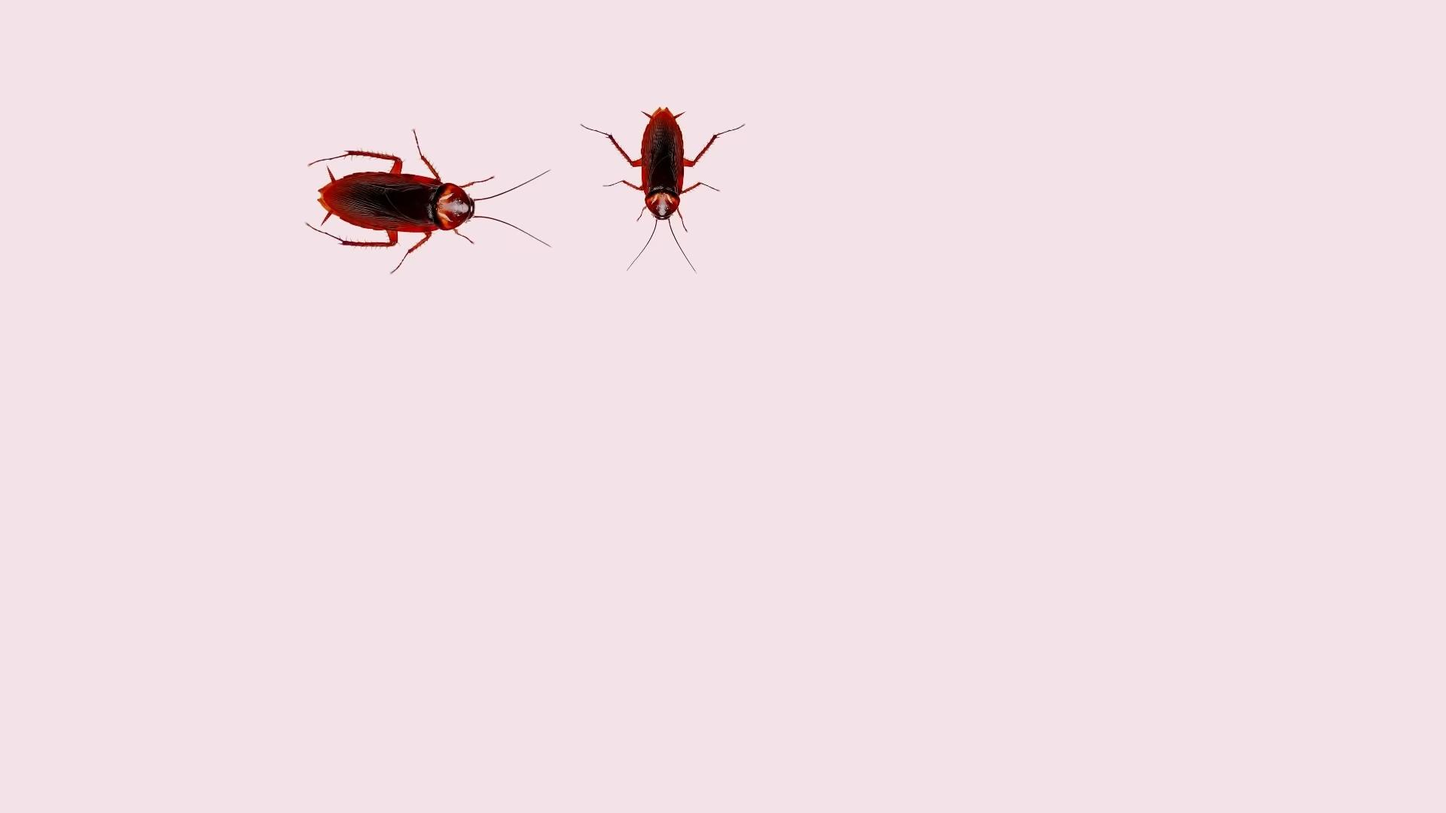cockroach: (305, 143, 515, 262), (610, 104, 725, 253)
